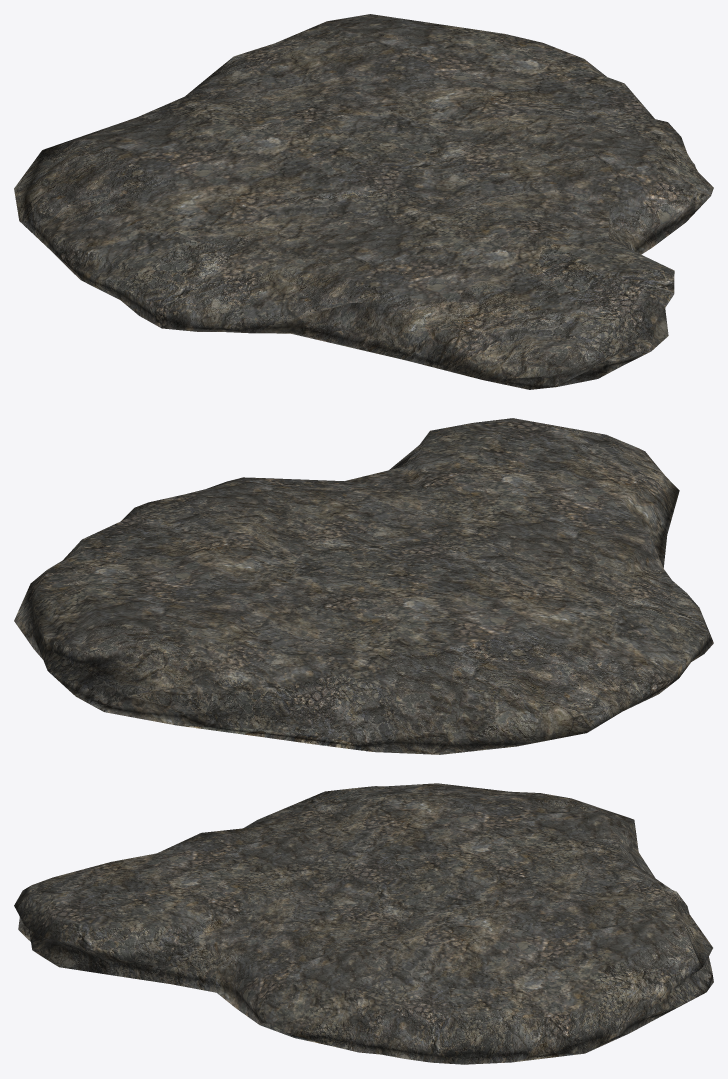
File: Cave14.fbx
3 renders of one model, top to bottom at view 1: azimuth 30°, elevation 25°; view 2: azimuth 150°, elevation 25°; view 3: azimuth 270°, elevation 25°, orthographic. The views are drawn at different scales.
Visible parts, largest first — view 1: Cave14:Cave14; view 2: Cave14:Cave14; view 3: Cave14:Cave14.
Boxes of the visible parts, x1,y1,x2,y2 form: Cave14:Cave14: [14, 14, 713, 389]; Cave14:Cave14: [14, 418, 713, 754]; Cave14:Cave14: [14, 783, 713, 1064].
Bounding box in the file's own units: 886 × 95.62 × 1008.
